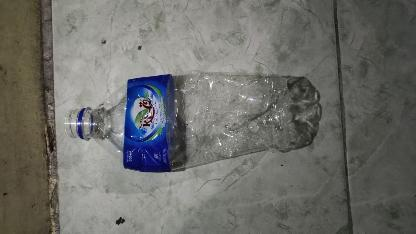Plastic Bottle: (64, 71, 322, 173)
